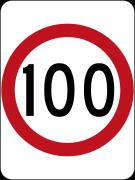Speed Limit -100-: (10, 44, 126, 139)
